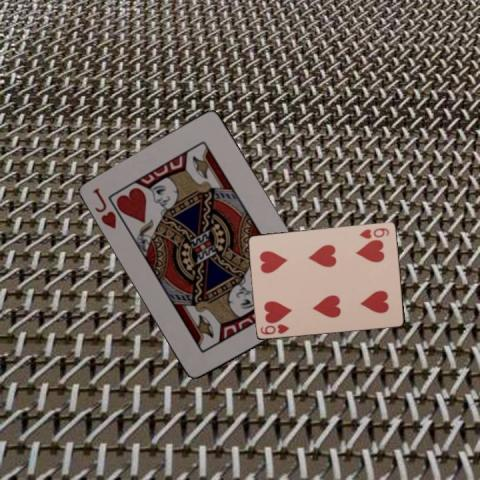6h: (356, 225, 390, 240), (257, 321, 291, 336)
Jh: (89, 184, 119, 230)
